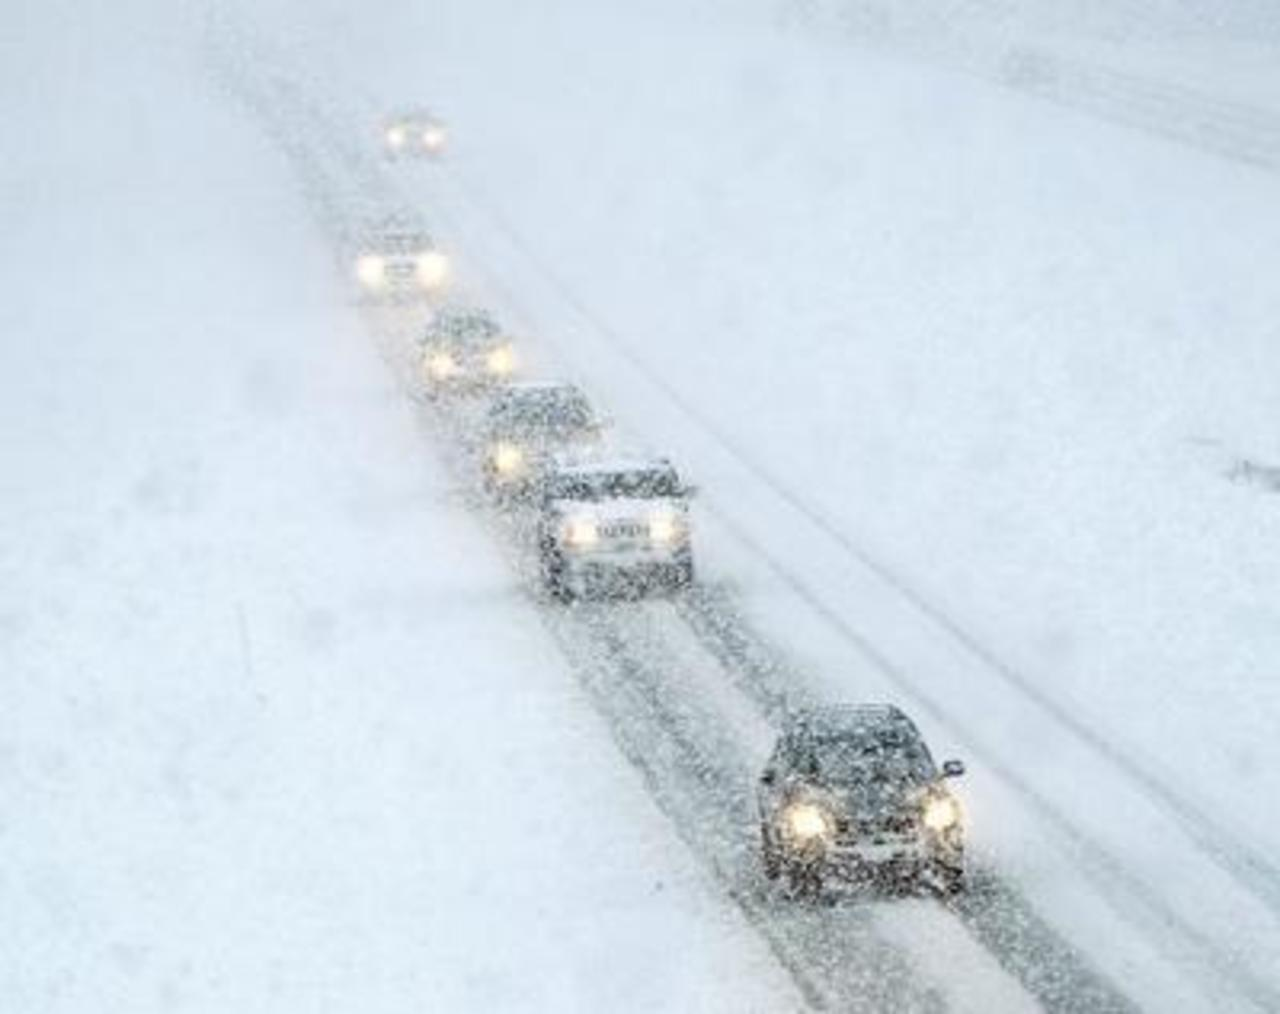car: (753, 706, 974, 908), (538, 452, 699, 594), (482, 376, 609, 501), (410, 310, 519, 410), (347, 219, 441, 308), (385, 105, 448, 162)
